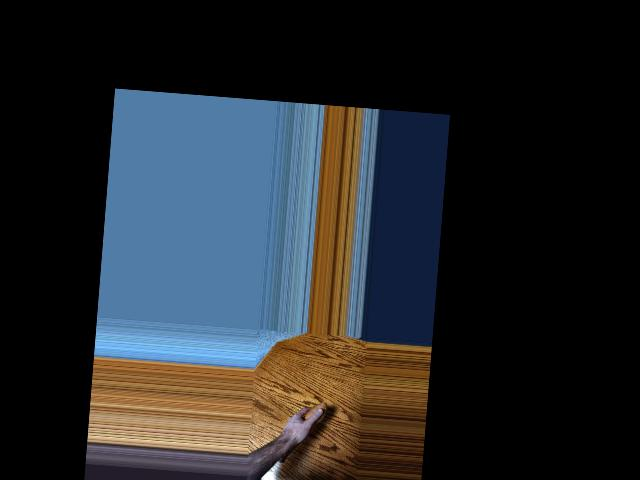sweet_potato: (277, 399, 328, 468)
